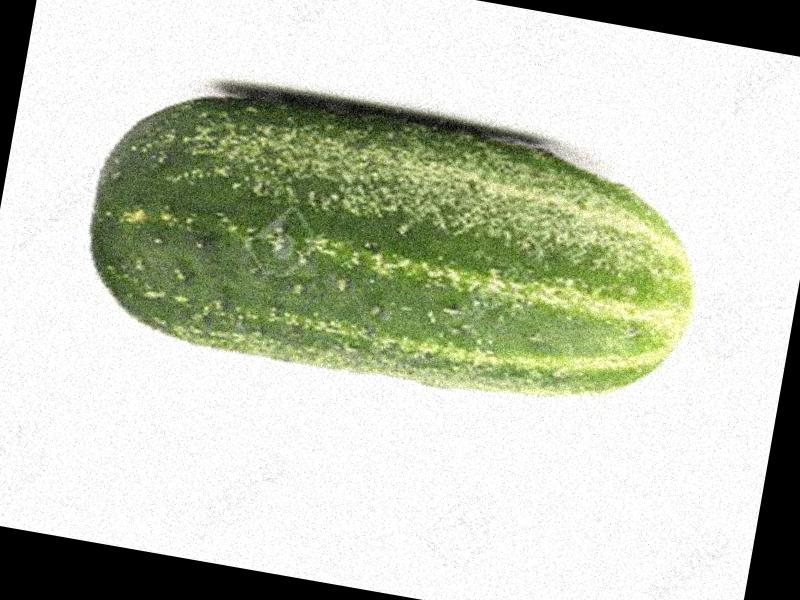Cucumber: (69, 65, 711, 427)
